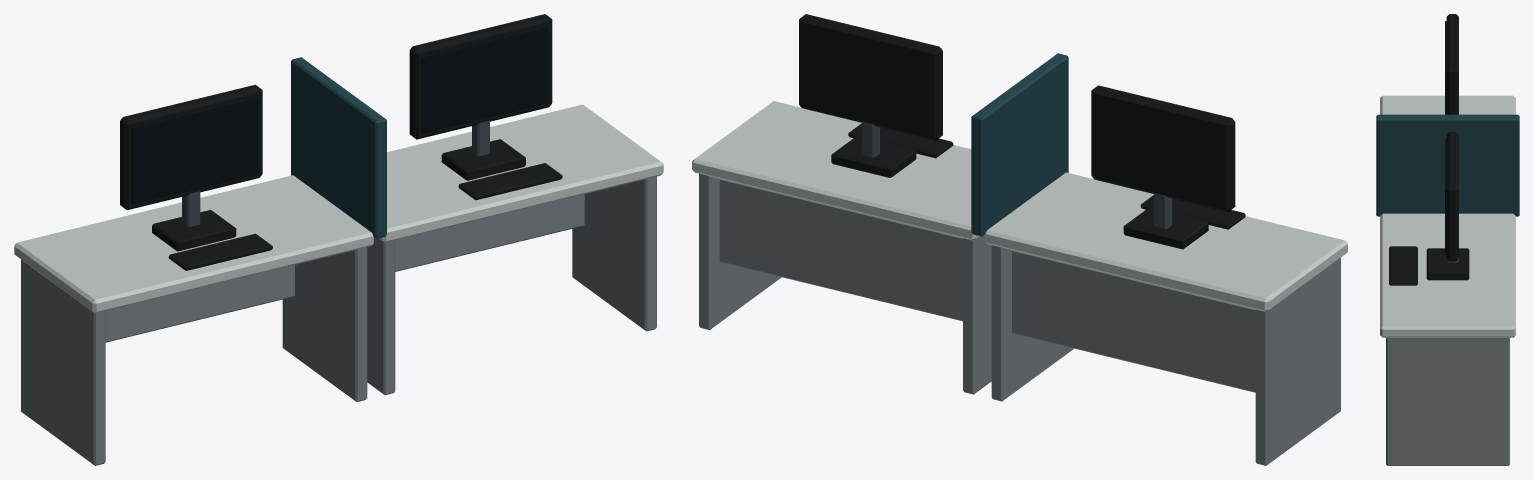
The model's file is WorkstationBank2.fbx.
3 renders of one model, left to right at view 1: azimuth 30°, elevation 25°; view 2: azimuth 150°, elevation 25°; view 3: azimuth 270°, elevation 25°, orthographic. The views are drawn at different scales.
Parts seen in each view (by area): view 1: WorkstationBank2; view 2: WorkstationBank2; view 3: WorkstationBank2.
Part boxes in pixels (x1=…): WorkstationBank2: x1=14, y1=14, x2=663, y2=465; WorkstationBank2: x1=692, y1=14, x2=1347, y2=465; WorkstationBank2: x1=1376, y1=14, x2=1519, y2=465.
Bounding box in the file's own units: 284 × 144 × 74.
Materials: 1 (1 with a texture image).
